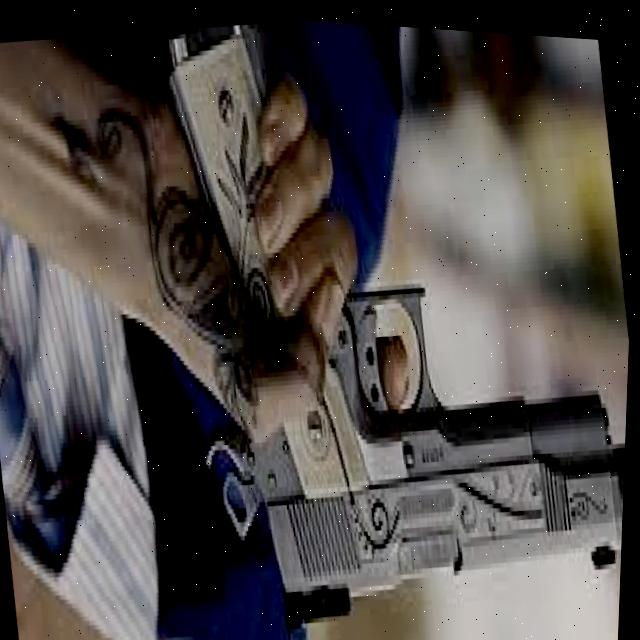pistol: (182, 240, 633, 640)
